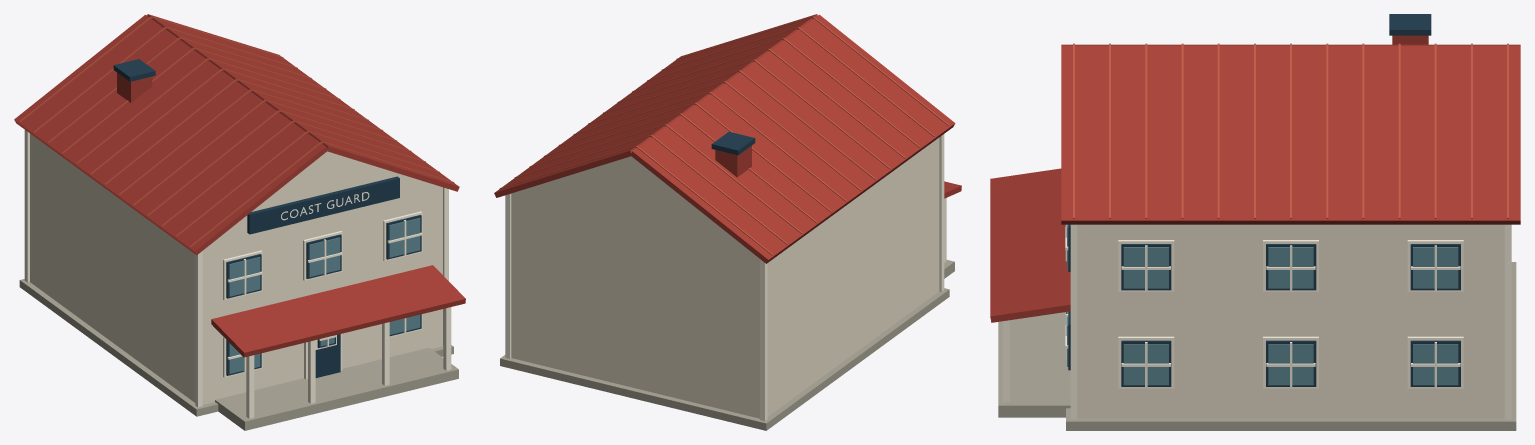
File: station_house.glb
3 renders of one model, left to right at view 1: azimuth 30°, elevation 25°; view 2: azimuth 150°, elevation 25°; view 3: azimuth 270°, elevation 25°, orthographic. The views are drawn at different scales.
Parts seen in each view (by area): view 1: station_house; view 2: station_house; view 3: station_house.
Part boxes in pixels (x1,y1,x2,y2): station_house: (14,14,465,430); station_house: (494,14,961,430); station_house: (990,14,1520,430).
Bounding box in the file's own units: 10.77 × 9.37 × 14.66.
